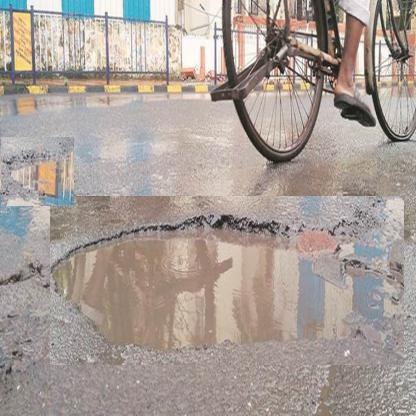pothole_water: (49, 196, 404, 366), (0, 137, 74, 207)
